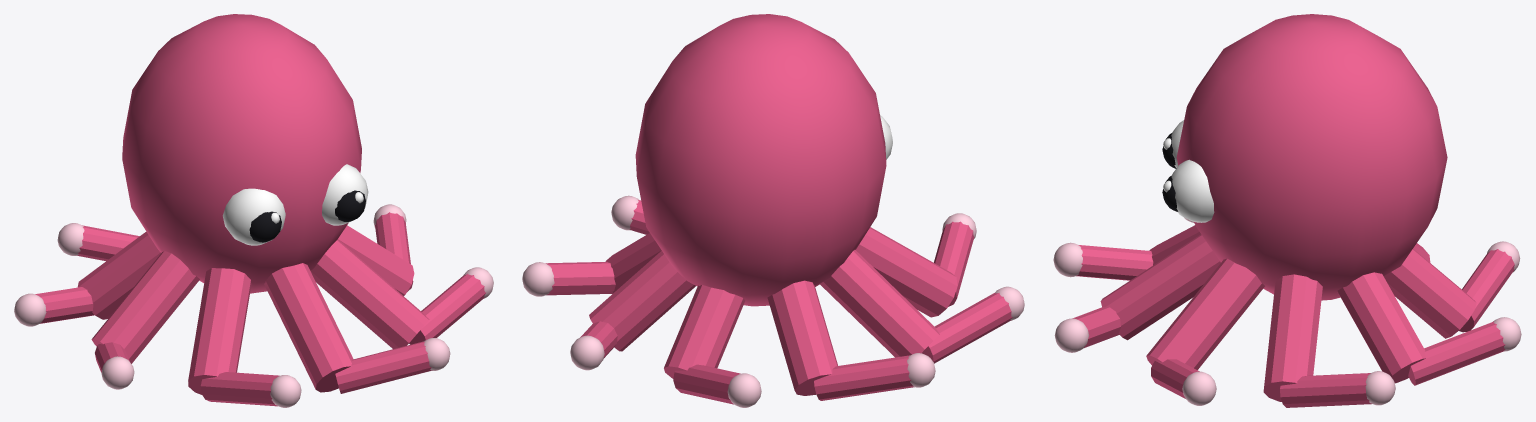
3 views of the same model, side by side, from view 1: azimuth 30°, elevation 25°; view 2: azimuth 150°, elevation 25°; view 3: azimuth 270°, elevation 25° (orthographic). The views are drawn at different scales.
Parts seen in each view (by area): view 1: Octopus; view 2: Octopus; view 3: Octopus.
Part boxes in pixels (<box>): Octopus: <box>14,14,493,407</box>; Octopus: <box>522,14,1024,407</box>; Octopus: <box>1053,14,1521,407</box>.
Size of the model in its own units: 3.8 by 2.81 by 3.8.
1 material, 1 textured.
